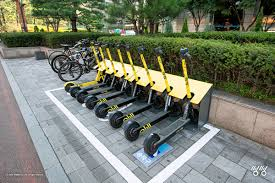kick_handler: (180, 46, 190, 57), (153, 45, 165, 54)
kick_wheel: (145, 134, 159, 156), (109, 112, 124, 129), (125, 123, 139, 141), (84, 95, 97, 109), (95, 103, 107, 118), (75, 91, 88, 103), (64, 81, 74, 92), (71, 86, 80, 97)
